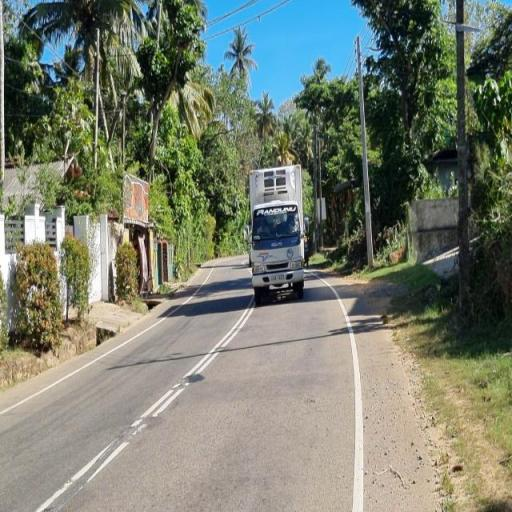double_white_line: (128, 305, 256, 437)
